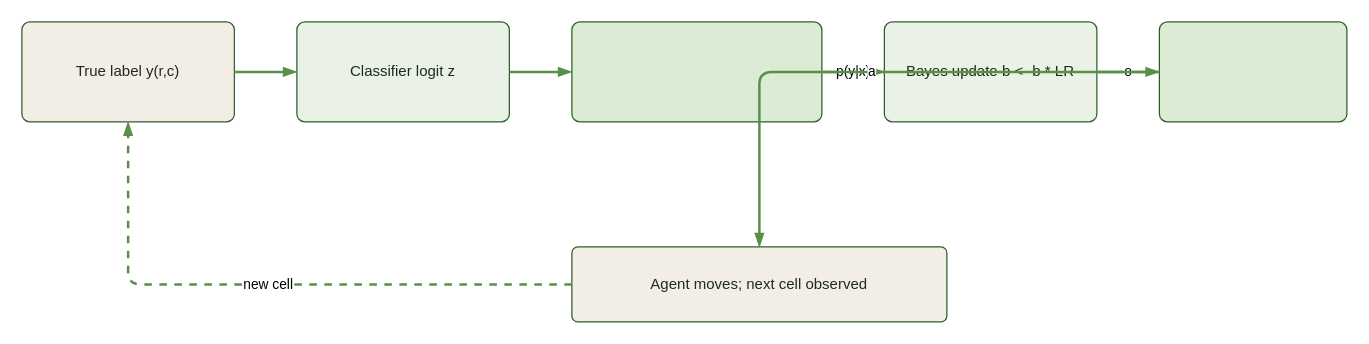
This 1369x344 diagram has some shape labels left out. Here are the shapes that lost their labels. From the top down, the centre of each, then its label:
At [696,71]: "Temperature scaling p = sigma(2*mu*z / T)".
At [1252,71]: "Policy pi(a|o)".
